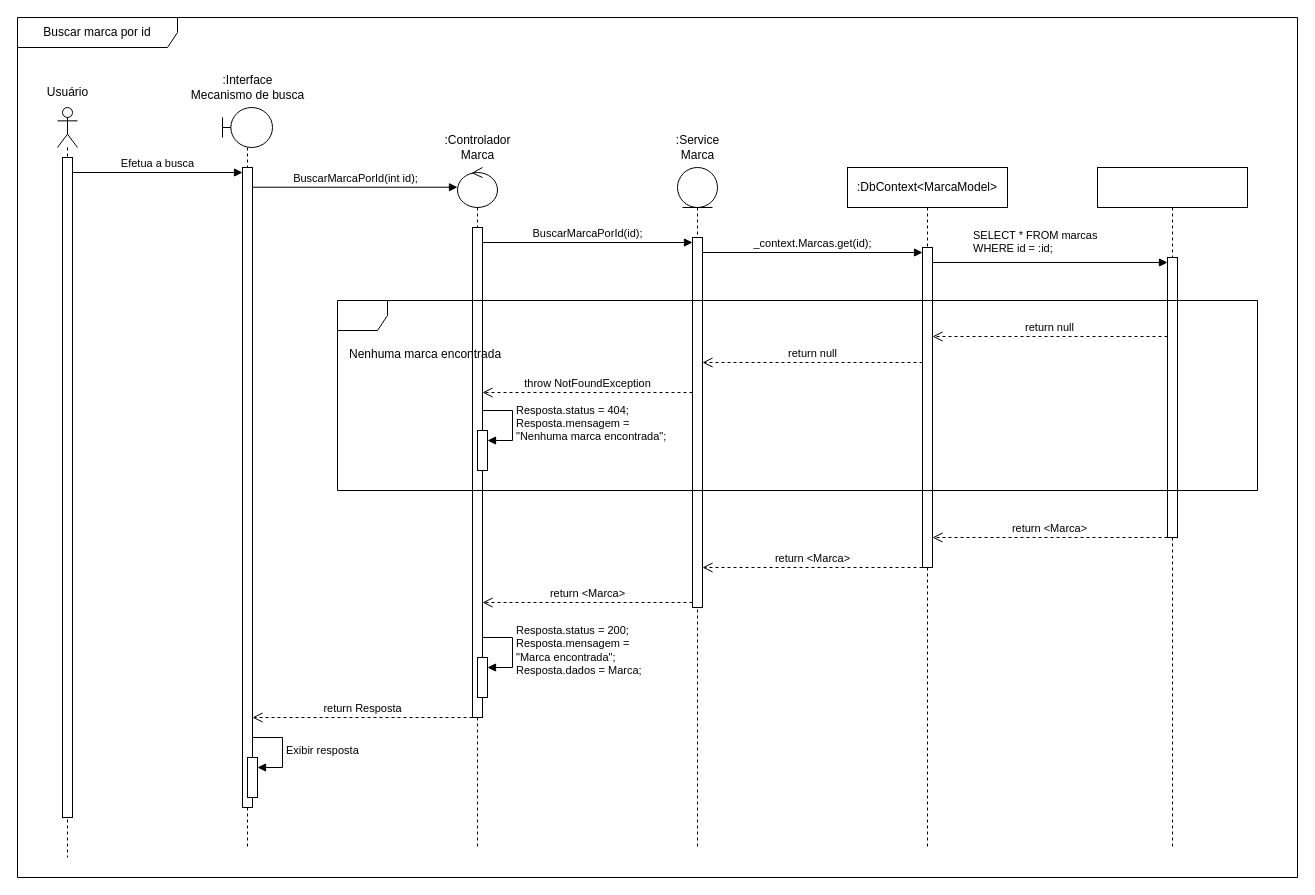
Image size: 1315x895. Some labels were removed from this diagram. Each missing label, with the box of its shape:
:DB marcas: (1096, 166, 1248, 848)
Opt: (336, 300, 1258, 490)
